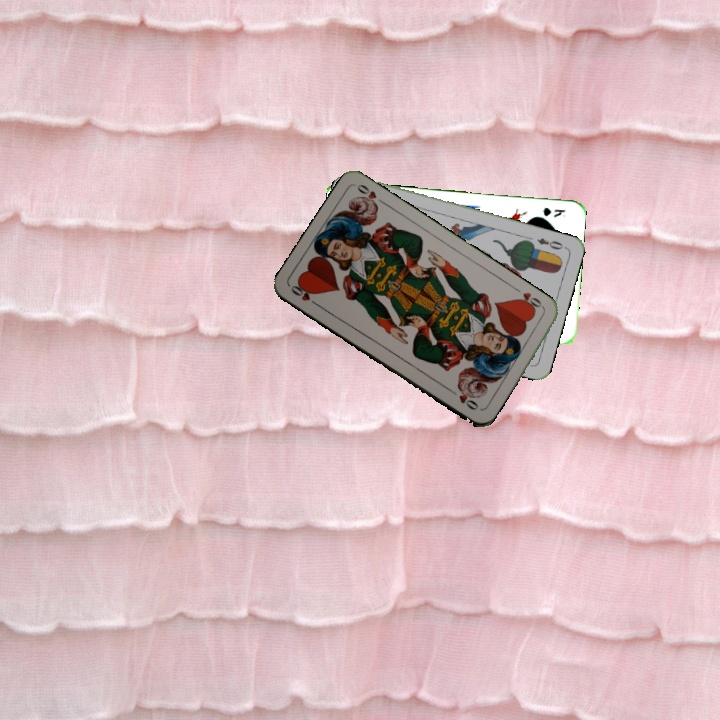EO: (533, 234, 569, 252)
GK: (539, 203, 568, 219)
HO: (511, 284, 547, 314), (287, 280, 323, 310)
